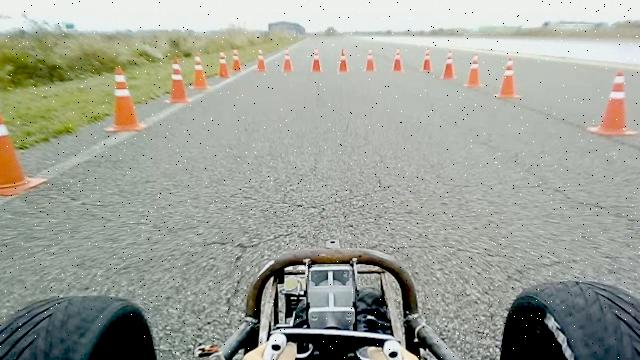red cone: (587, 70, 638, 136), (103, 66, 147, 132), (164, 58, 191, 104), (494, 54, 522, 98), (464, 52, 484, 88), (189, 55, 208, 90), (441, 49, 456, 80), (217, 50, 230, 78), (280, 48, 294, 73), (363, 48, 376, 72), (310, 46, 322, 72), (392, 46, 404, 72), (337, 47, 349, 72), (421, 47, 432, 72), (232, 49, 242, 72), (256, 49, 266, 72)
